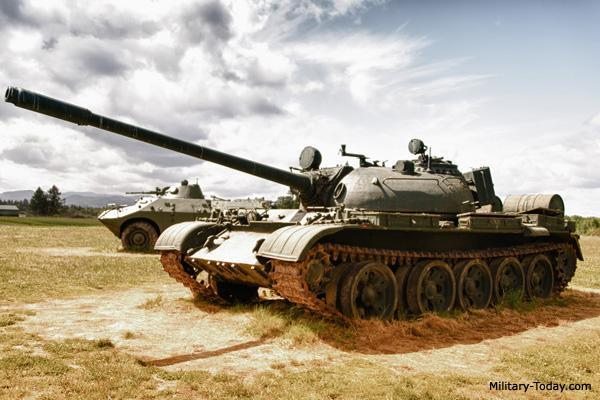tank: (3, 84, 584, 321), (96, 178, 273, 252)
